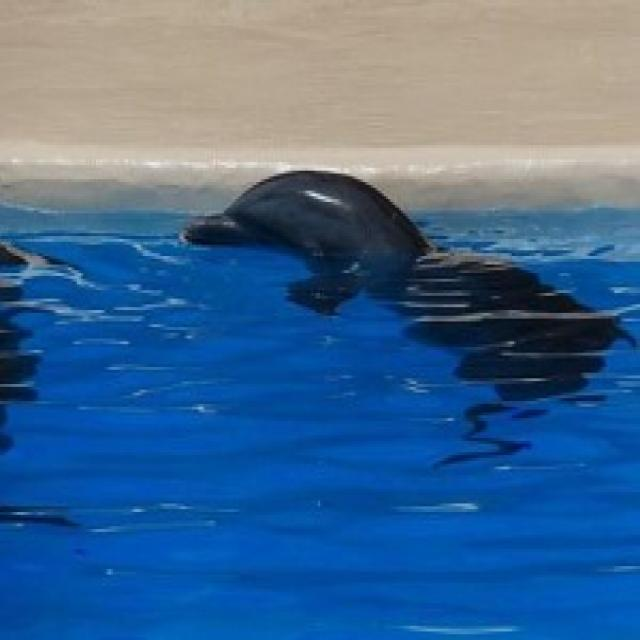Dolphin: (174, 170, 523, 331)
